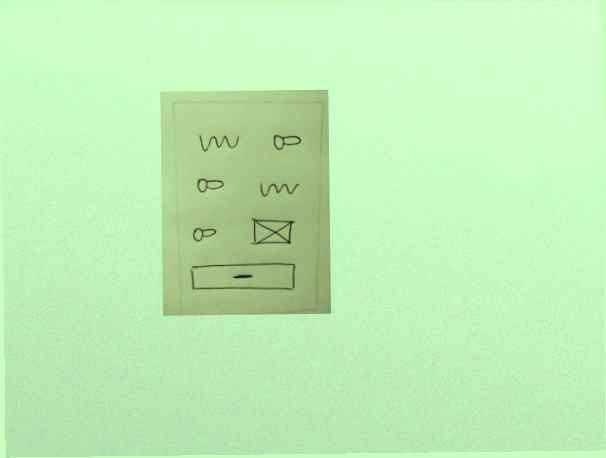button: (187, 259, 298, 296)
image: (247, 216, 298, 251)
switch: (271, 130, 305, 154), (194, 176, 228, 199), (190, 226, 219, 247)
text: (197, 130, 242, 156), (258, 178, 304, 203)
